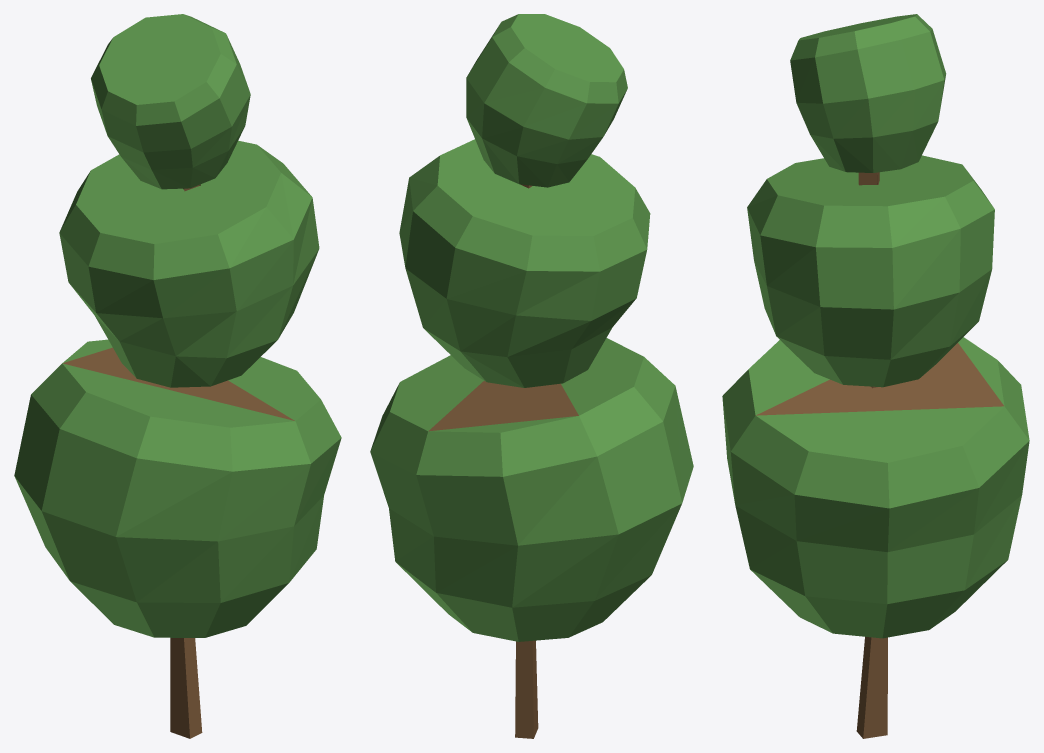
Rendered from tree3d-013.glb.
The picture shows the model from 3 angles, left to right: view 1: azimuth 30°, elevation 25°; view 2: azimuth 150°, elevation 25°; view 3: azimuth 270°, elevation 25°; orthographic projection.
Parts seen in each view (by area): view 1: tree3d-013; view 2: tree3d-013; view 3: tree3d-013.
Part boxes in pixels (x1,y1,x2,y2): tree3d-013: (14, 14, 341, 738); tree3d-013: (370, 14, 693, 738); tree3d-013: (722, 14, 1029, 738).
Bounding box in the file's own units: 0.4205 × 1 × 0.3903.
